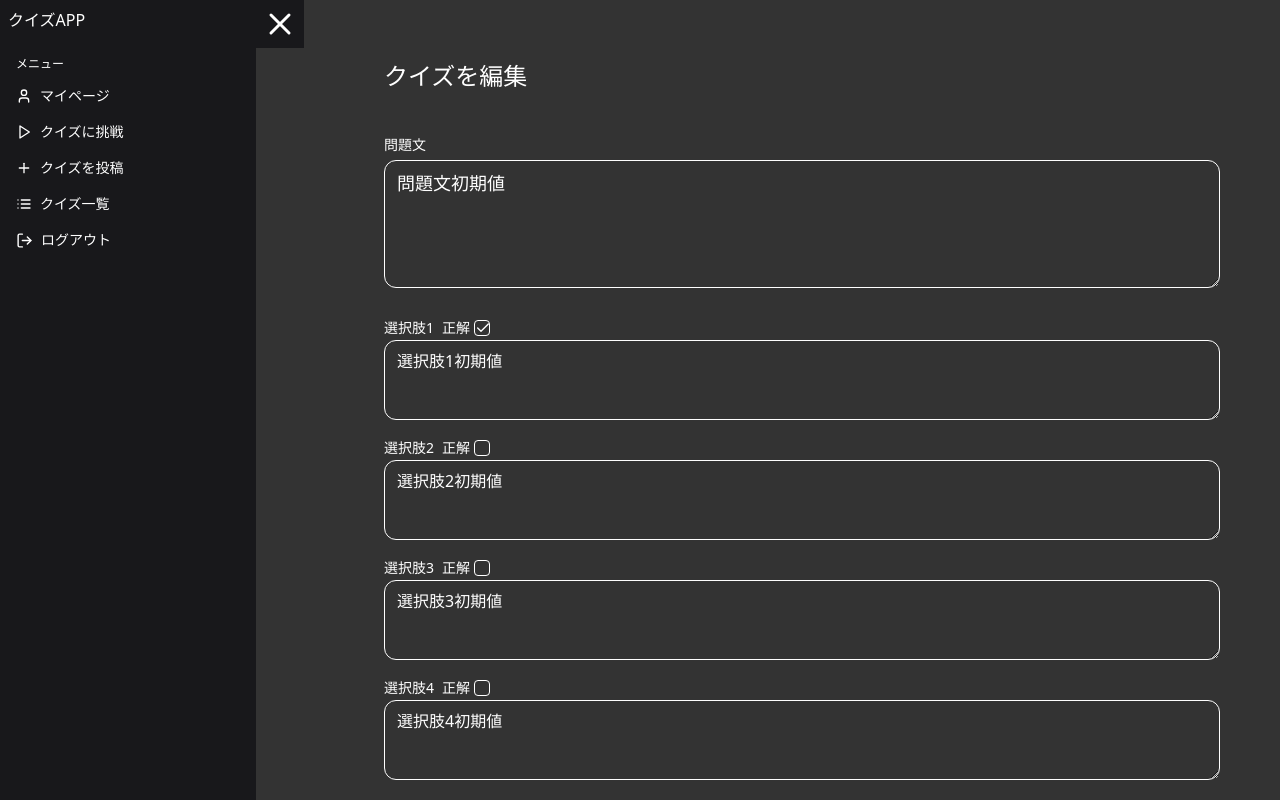
Test: クイズ編集フォーム › 正常にクイズを編集できる
Replace the text in the text box showing "問題文初期値" below "問題文" with "問題文": (802, 224) [384, 160, 1220, 288]
Replace the text in the text box showing "選択肢1初期値" below "選択肢1" with "選択肢1": (802, 380) [384, 340, 1220, 420]
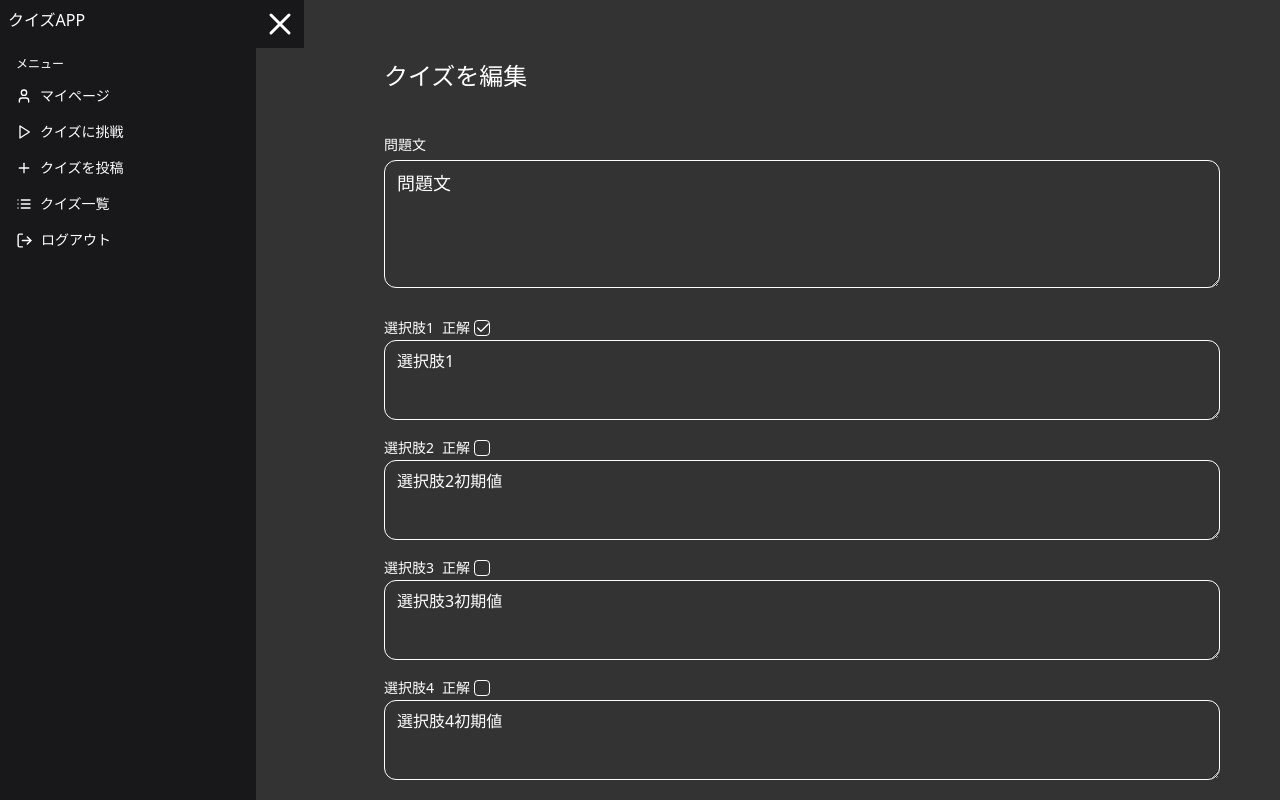
Replace the text in the text box showing "選択肢2初期値" below "選択肢2" with "選択肢2": (802, 500) [384, 460, 1220, 540]
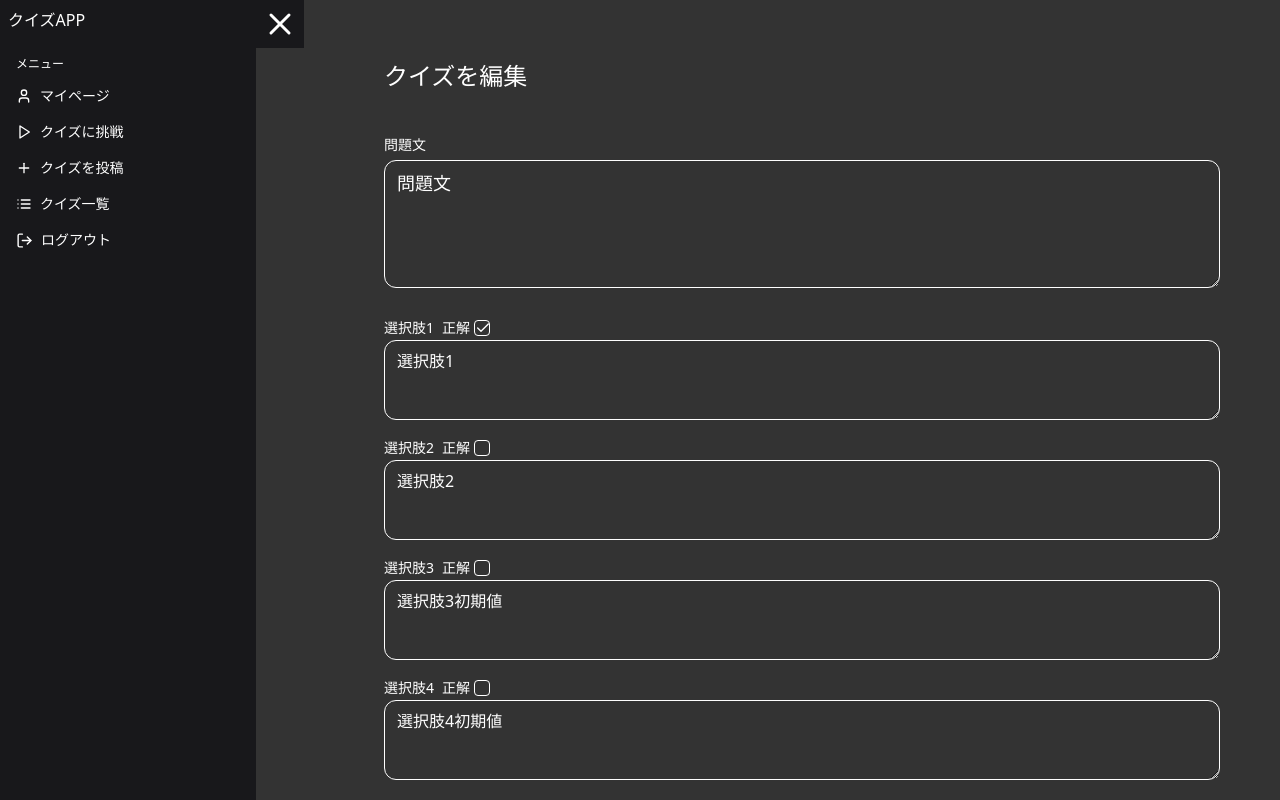
Replace the text in the text box showing "選択肢3初期値" below "選択肢3" with "選択肢3": (802, 620) [384, 580, 1220, 660]
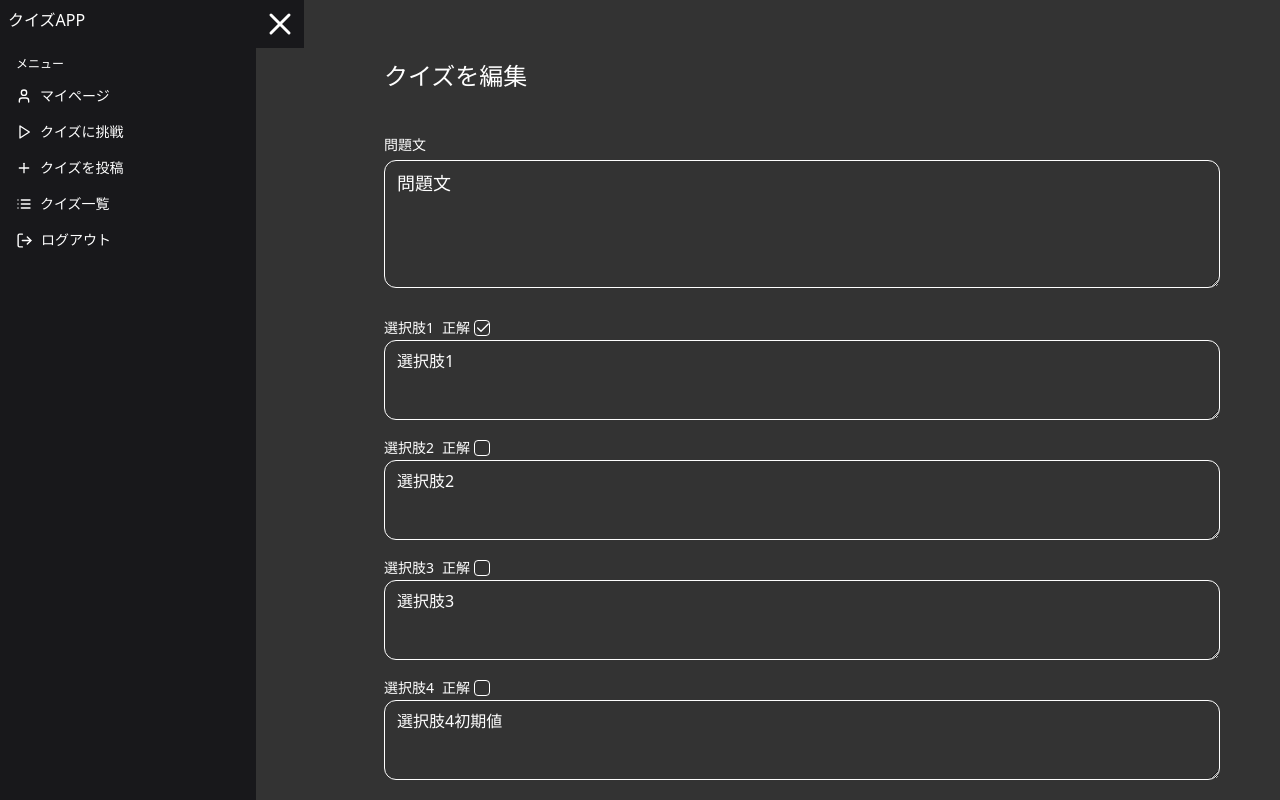
Replace the text in the text box showing "選択肢4初期値" below "選択肢4" with "選択肢4": (802, 740) [384, 700, 1220, 780]
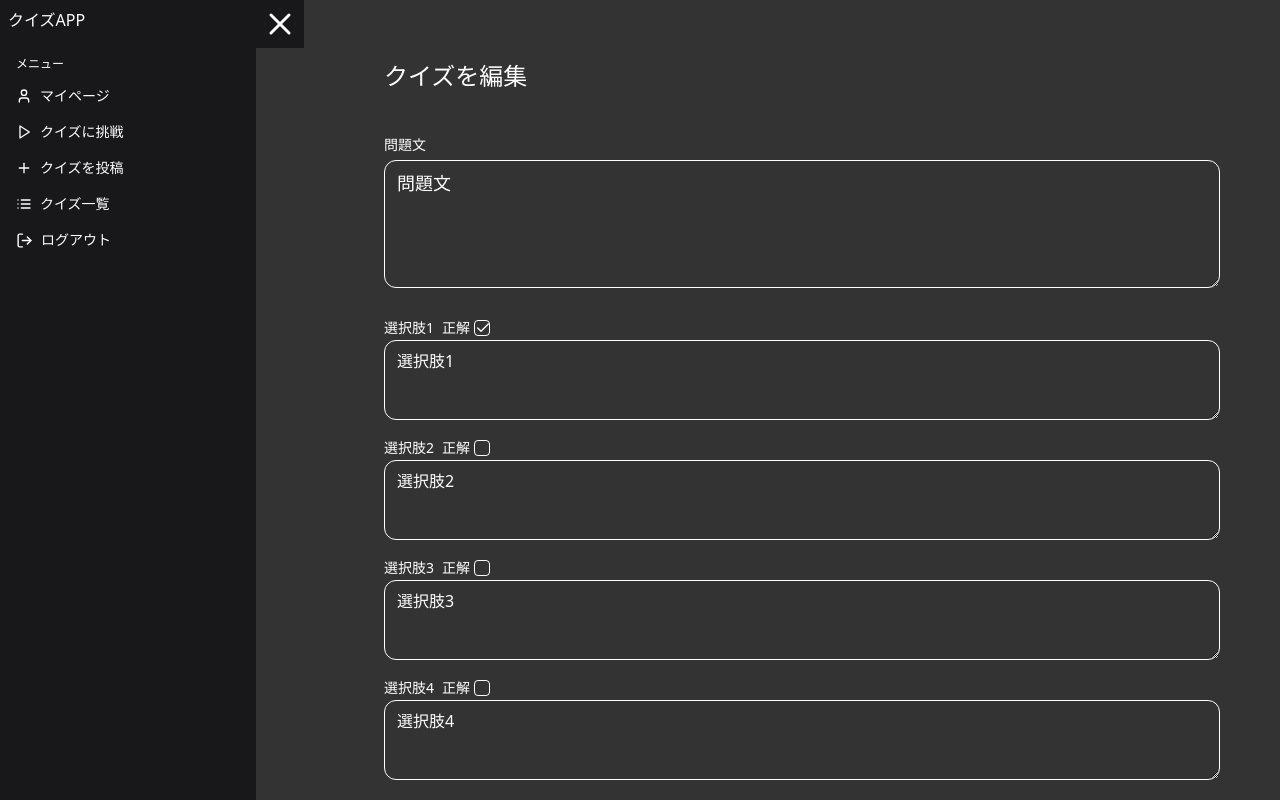
Click the checkbox in the row of "選択肢2": (482, 448) [474, 440, 490, 456]
(page scrolled)
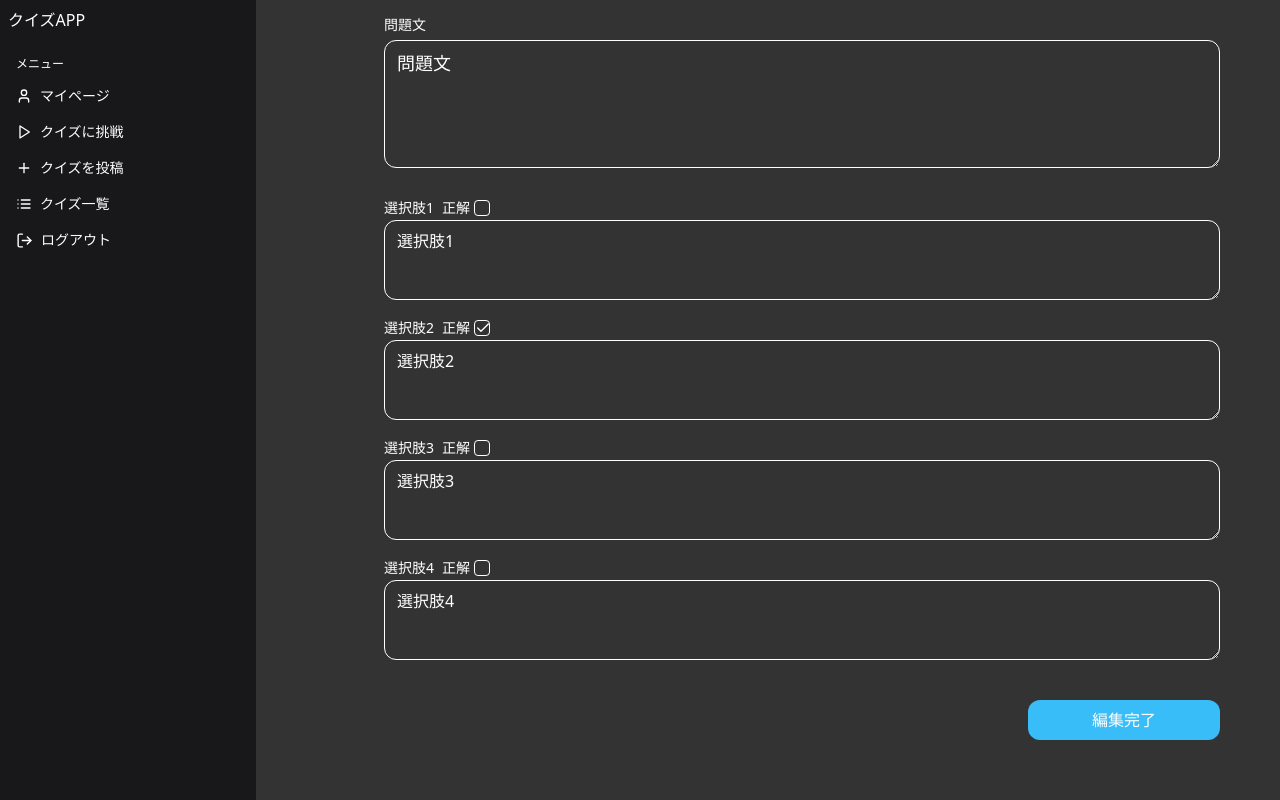
Click the button "編集完了": (1124, 720) [1028, 700, 1220, 740]
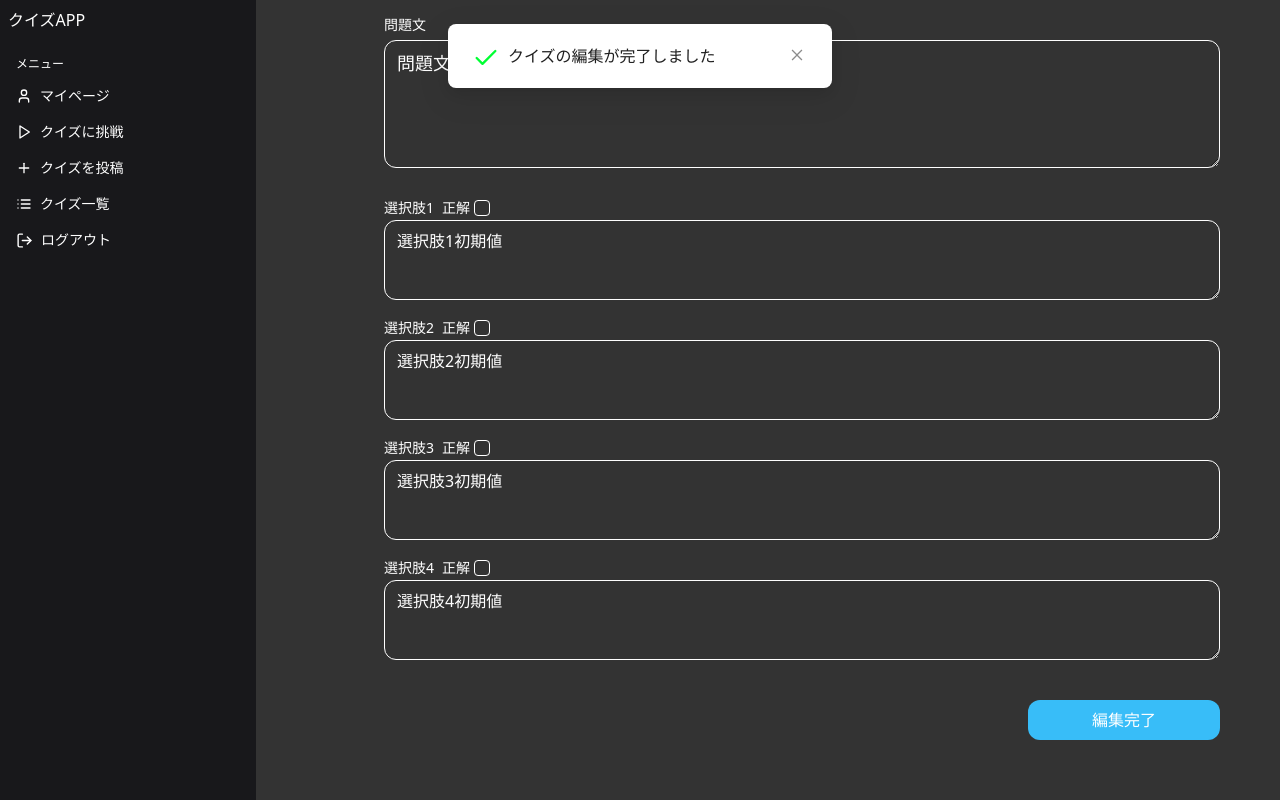
Check: the text "クイズの編集が完了しました" is shown, box [508, 46, 716, 66]
